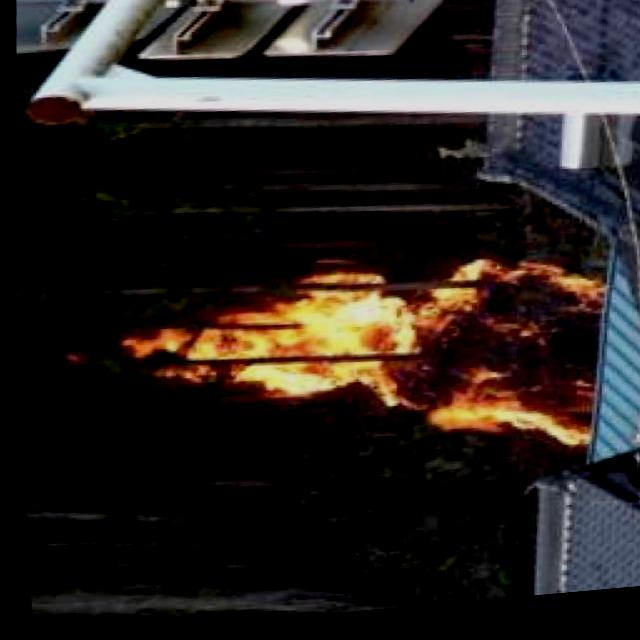helmet: (121, 248, 602, 485)
